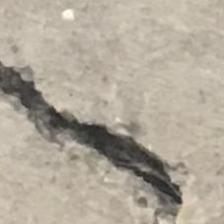Crack: (0, 39, 205, 217)
